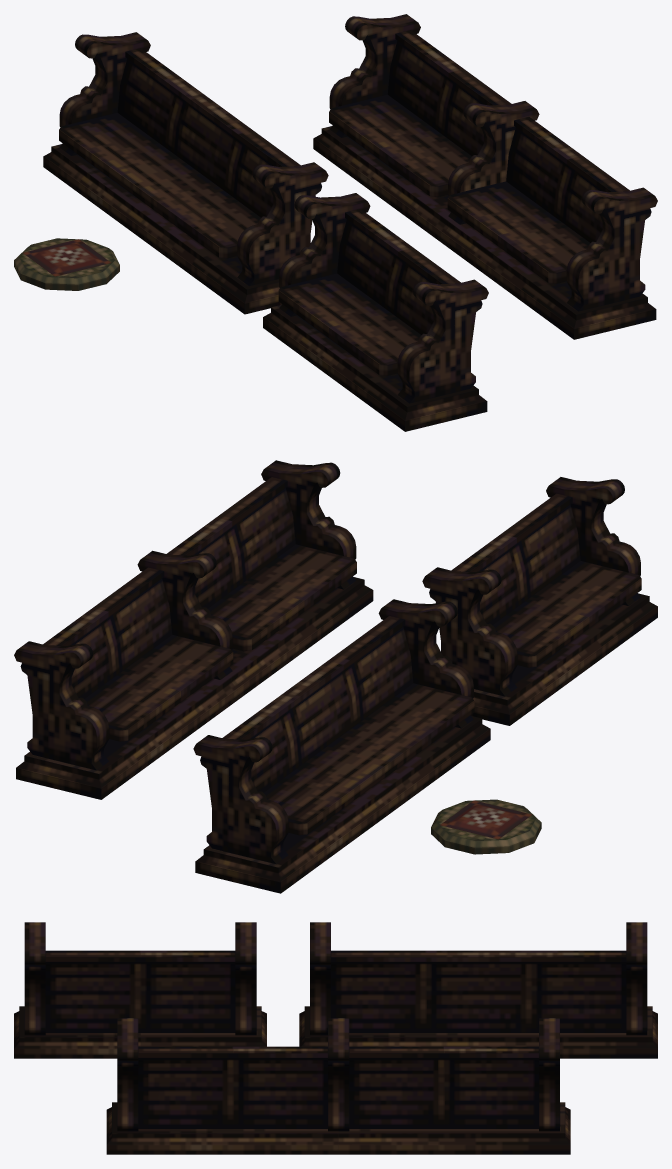
Rendered from EnvObjMD_Chair_Church_A_Daiseidou.FBX.
3 views of the same model, one above another, from view 1: azimuth 30°, elevation 25°; view 2: azimuth 150°, elevation 25°; view 3: azimuth 270°, elevation 25° (orthographic). The views are drawn at different scales.
Visible parts, largest first — view 1: EnvObjMD_Chair_Church_A_Daiseidou, EnvObjMD_Chair_Church_A_M, EnvObjMD_Chair_Church_A_S, EnvObjMD_Chair_Cushion_A_RedCover; view 2: EnvObjMD_Chair_Church_A_Daiseidou, EnvObjMD_Chair_Church_A_M, EnvObjMD_Chair_Church_A_S, EnvObjMD_Chair_Cushion_A_RedCover; view 3: EnvObjMD_Chair_Church_A_Daiseidou, EnvObjMD_Chair_Church_A_M, EnvObjMD_Chair_Church_A_S.
Part boxes in pixels (<box>): EnvObjMD_Chair_Church_A_Daiseidou: <box>313,14,657,339</box>; EnvObjMD_Chair_Church_A_M: <box>43,32,328,314</box>; EnvObjMD_Chair_Church_A_S: <box>263,193,488,431</box>; EnvObjMD_Chair_Cushion_A_RedCover: <box>14,238,119,290</box>; EnvObjMD_Chair_Church_A_Daiseidou: <box>14,460,373,799</box>; EnvObjMD_Chair_Church_A_M: <box>193,599,490,893</box>; EnvObjMD_Chair_Church_A_S: <box>422,477,657,725</box>; EnvObjMD_Chair_Cushion_A_RedCover: <box>431,799,541,854</box>; EnvObjMD_Chair_Church_A_Daiseidou: <box>106,1018,570,1154</box>; EnvObjMD_Chair_Church_A_M: <box>299,922,657,1058</box>; EnvObjMD_Chair_Church_A_S: <box>14,922,266,1058</box>.
Bounding box in the file's own units: 432 × 120 × 611.
Materials: 2 (2 with a texture image).
